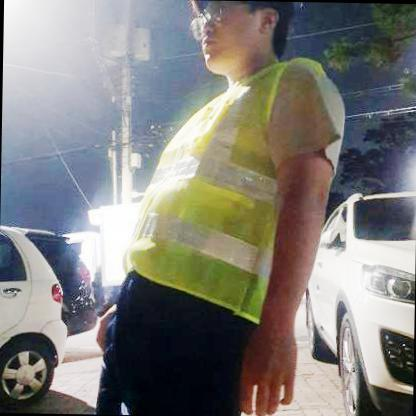vest: (117, 49, 341, 327)
